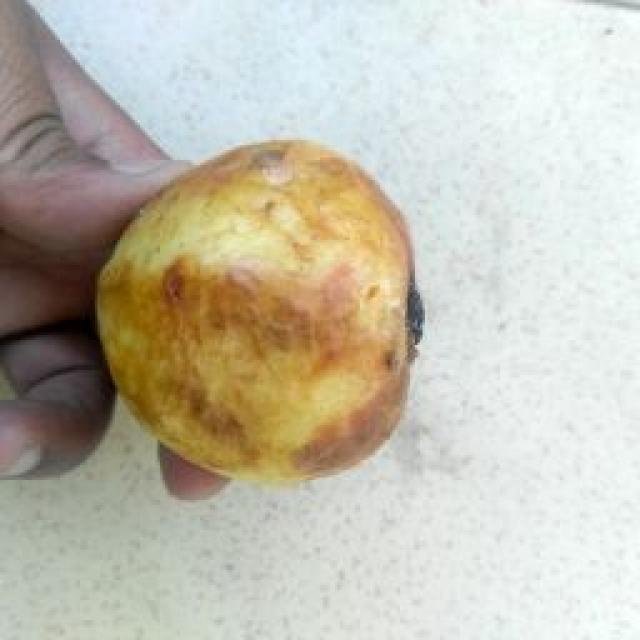Organik: (100, 145, 430, 481)
